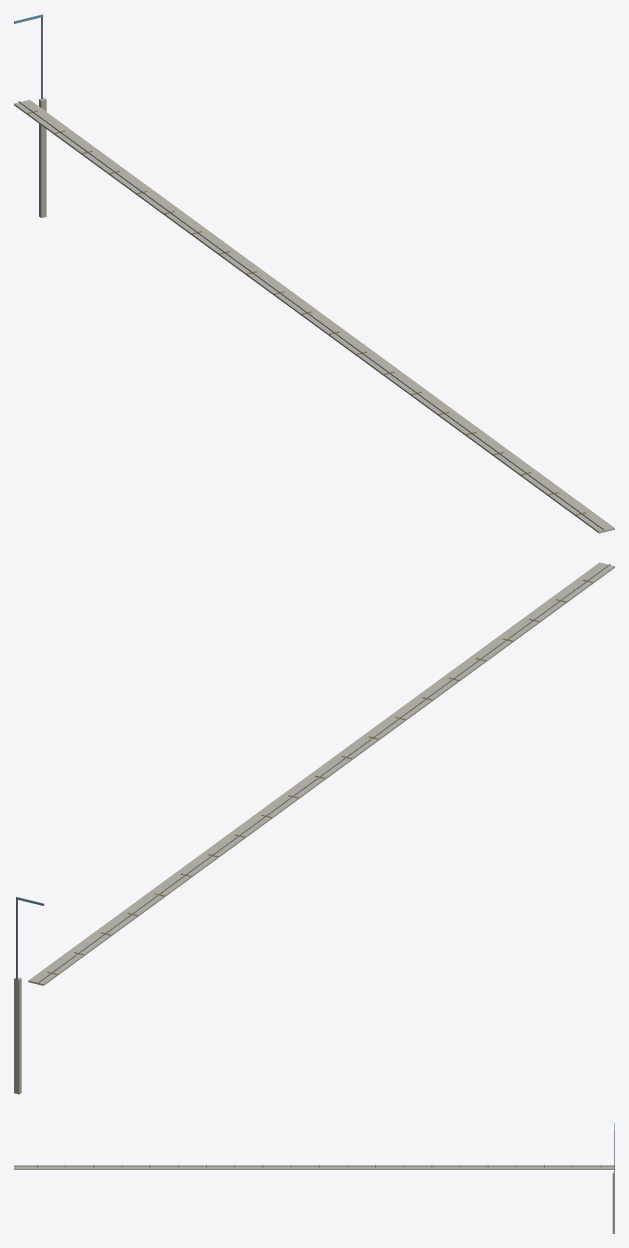
File: valley-8-9.glb
3 views of the same model, one above another, from view 1: azimuth 30°, elevation 25°; view 2: azimuth 150°, elevation 25°; view 3: azimuth 270°, elevation 25° (orthographic). The views are drawn at different scales.
Visible parts, largest first — view 1: valley-8-9; view 2: valley-8-9; view 3: valley-8-9.
Part boxes in pixels (x1,y1,x2,y2): valley-8-9: (14, 14, 614, 533); valley-8-9: (14, 562, 614, 1094); valley-8-9: (14, 1123, 614, 1233).
Bounding box in the file's own units: 7.7 × 48.57 × 256.
